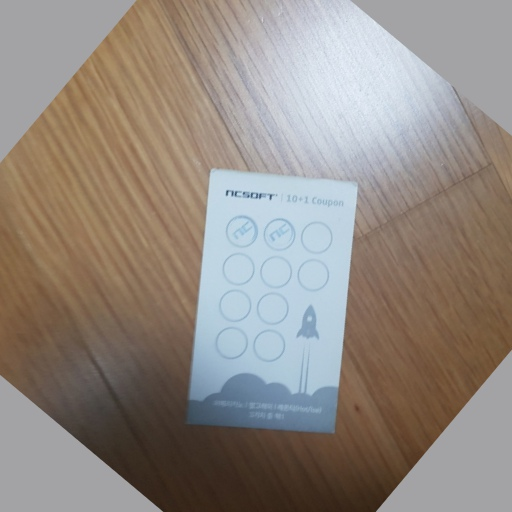Paper_2: (181, 164, 358, 443)
